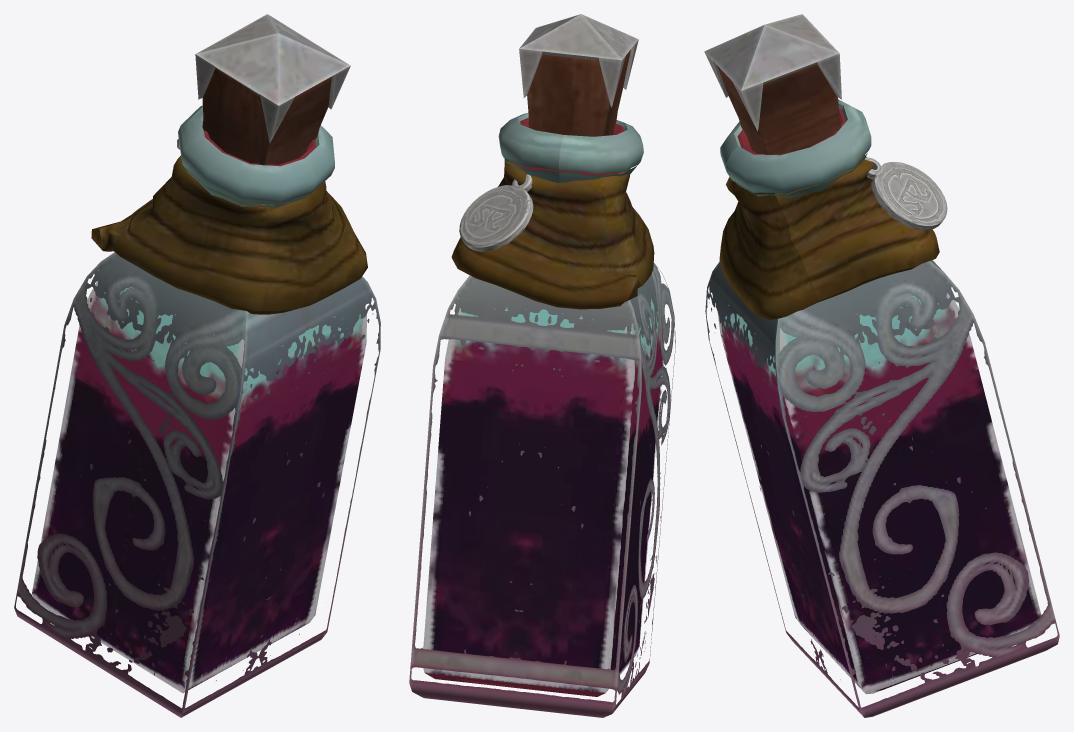
Rendered from potion.glb.
3 renders of one model, left to right at view 1: azimuth 30°, elevation 25°; view 2: azimuth 150°, elevation 25°; view 3: azimuth 270°, elevation 25°, orthographic. The views are drawn at different scales.
Visible parts, largest first — view 1: Object_3, Object_4; view 2: Object_4, Object_3, Object_2; view 3: Object_3, Object_4, Object_2.
Part boxes in pixels (x1,y1,x2,y2): Object_3: (14,14,380,717); Object_4: (32,121,366,693); Object_4: (423,117,664,696); Object_3: (409,14,675,717); Object_2: (459,174,533,251); Object_3: (704,14,1059,717); Object_4: (717,108,1041,694); Object_2: (865,157,947,230).
Size of the model in its own units: 58.07 by 144 by 70.09.
3 materials, 3 textured.
